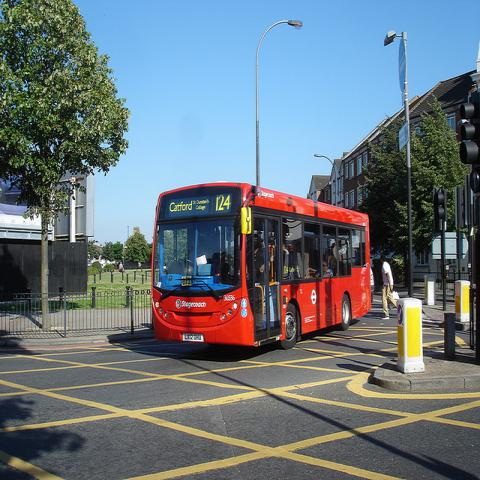bus: (150, 184, 373, 352)
